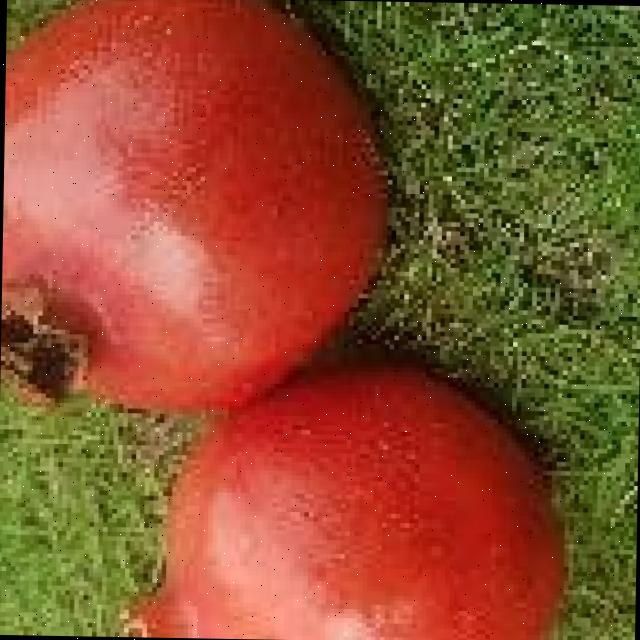Good_Pomegranate 50-60-days: (0, 0, 590, 640)
